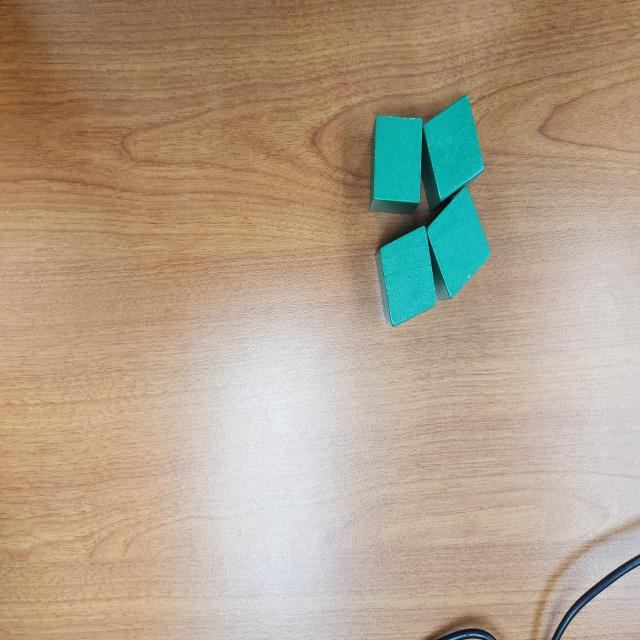green: (426, 184, 492, 302), (422, 93, 485, 214), (374, 226, 438, 326), (369, 113, 425, 216)
